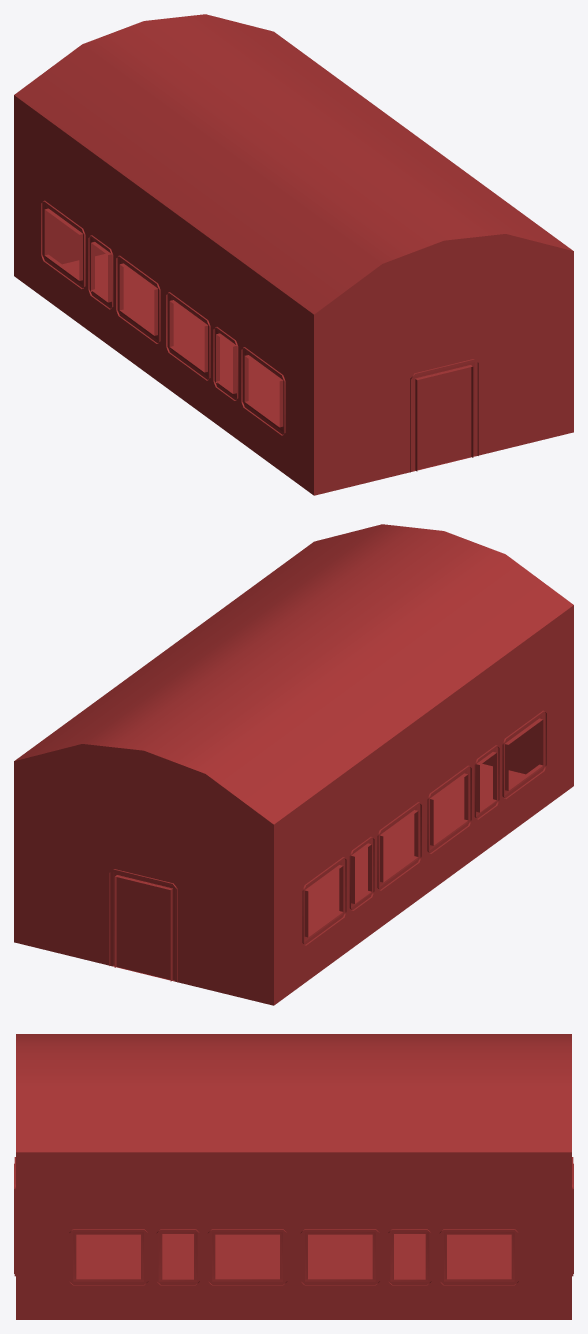
The model's file is SM_Carriage.fbx.
3 renders of one model, top to bottom at view 1: azimuth 30°, elevation 25°; view 2: azimuth 150°, elevation 25°; view 3: azimuth 270°, elevation 25°, orthographic. The views are drawn at different scales.
Visible parts, largest first — view 1: polySurface14; view 2: polySurface14; view 3: polySurface14.
Boxes of the visible parts, x1,y1,x2,y2 form: polySurface14: [14, 14, 573, 495]; polySurface14: [14, 524, 573, 1005]; polySurface14: [14, 1034, 573, 1319].
Size of the model in its own units: 609 by 493 by 1209.
